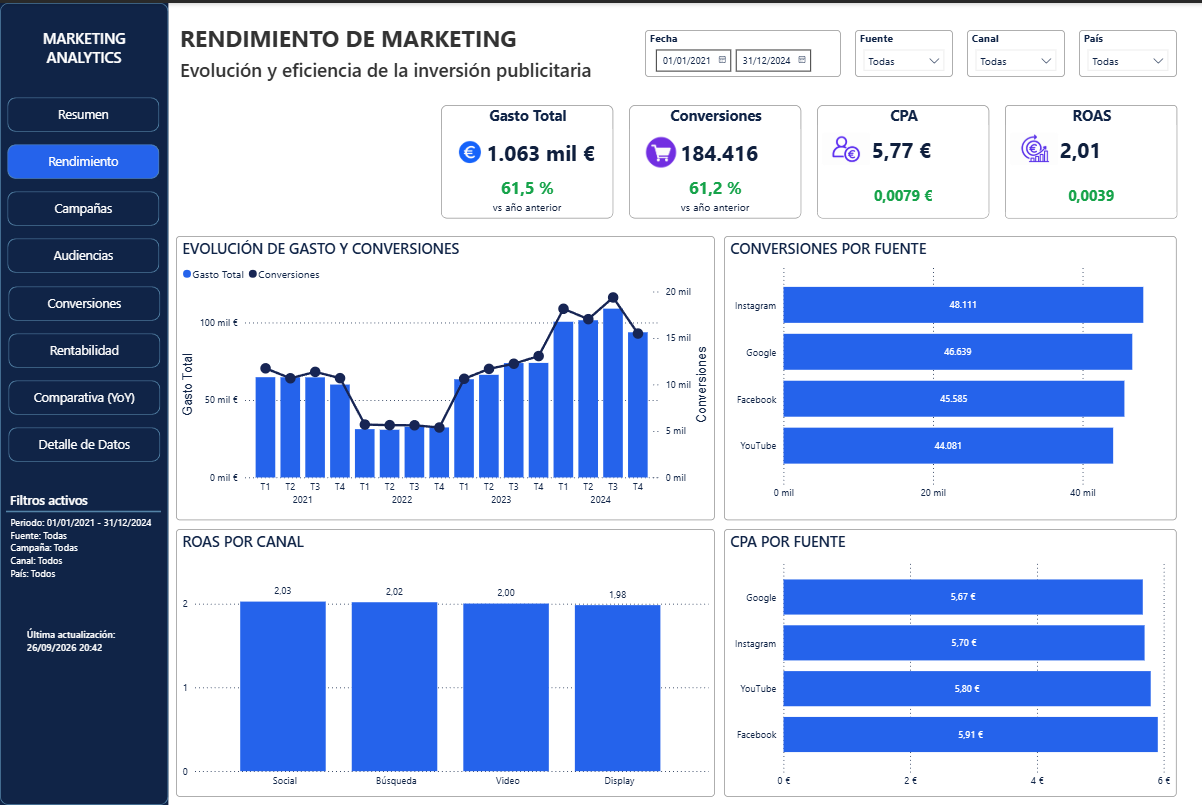

The page's visual inventory and layout, read from the dashboard file:
{"tool":"powerbi","page":{"name":"Rendimiento","canvas":[1536,1024],"ordinal":1},"visuals":[{"type":"shape","box":[0,0,215,1024],"z":0,"group":"g2"},{"type":"group","id":"g1","title":"Grupo 4","box":[0,0,214.5,1024],"z":0},{"type":"group","id":"g2","title":"Grupo 3","box":[0,0,215,1024],"z":0,"group":"g1"},{"type":"textbox","title":"RENDIMIENTO DE MARKETING","box":[224.7,24.3,578.4,80.4],"z":1000},{"type":"textbox","box":[1.3,26.8,212,68.9],"z":1000,"group":"g2"},{"type":"shape","box":[6.4,117.5,200,50],"z":1000,"group":"g1"},{"type":"slicer","title":"País","fields":{"Values":["DimPais.AudienciaPais"]},"box":[1377.7,35,125,60],"z":2000},{"type":"shape","box":[6.6,177.7,200,50],"z":2000,"group":"g1"},{"type":"slicer","title":"Fuente","fields":{"Values":["DimFuente.Fuente"]},"box":[1091.8,35,125,60],"z":3000},{"type":"shape","box":[6.7,237.9,200,50],"z":3000,"group":"g1"},{"type":"slicer","title":"Canal","fields":{"Values":["DimCanal.CampaniaCanal"]},"box":[1234.7,35,125,60],"z":4000},{"type":"shape","box":[6.9,298,200,50],"z":4000,"group":"g1"},{"type":"slicer","title":"Fecha","fields":{"Values":["DimCalendar.Fecha"]},"box":[823.5,35,250.3,60],"z":5000},{"type":"shape","box":[7.1,358.2,200,50],"z":5000,"group":"g1"},{"type":"shape","box":[7.3,418.4,200,50],"z":6000,"group":"g1"},{"type":"cardVisual","title":"Gasto Total","fields":{"Data":["Medidas.Gasto Total","Medidas.Variación Gasto YoY %"]},"box":[563.1,130.2,220,145],"z":7000},{"type":"shape","box":[7.5,478.6,200,50],"z":7000,"group":"g1"},{"type":"cardVisual","title":"Conversiones","fields":{"Data":["Medidas.Conversiones","Medidas.Variación Conversiones YoY %"]},"box":[803.1,130.2,220,145],"z":8000},{"type":"shape","box":[7.7,538.8,200,50],"z":8000,"group":"g1"},{"type":"cardVisual","title":"CPA","fields":{"Data":["Medidas.CPA","Medidas.Variación CPA YoY €"]},"box":[1043.2,130.2,220,145],"z":9000},{"type":"textbox","box":[7.7,619.3,199.2,33.2],"z":9000},{"type":"cardVisual","title":"ROAS","fields":{"Data":["Medidas.ROAS","Medidas.Variación ROAS YoY"]},"box":[1283.2,130.2,220,145],"z":10000},{"type":"lineClusteredColumnComboChart","title":"EVOLUCIÓN DE GASTO Y CONVERSIONES","fields":{"Category":["DimCalendar.#Año","DimCalendar.Trimestre"],"Y":["Medidas.Gasto Total"],"Y2":["Medidas.Conversiones"]},"box":[224.7,297.5,688.2,362.6],"z":11000},{"type":"clusteredBarChart","title":"CONVERSIONES POR FUENTE","fields":{"Category":["DimFuente.Fuente"],"Y":["Medidas.Conversiones"]},"box":[924.4,297.5,578.4,362.6],"z":12000},{"type":"clusteredColumnChart","title":"ROAS POR CANAL","fields":{"Category":["DimCanal.CampaniaCanal"],"Y":["Medidas.ROAS"]},"box":[224.7,671.6,688.2,342.2],"z":13000},{"type":"clusteredBarChart","title":"CPA POR FUENTE","fields":{"Category":["DimFuente.Fuente"],"Y":["Medidas.CPA"]},"box":[924.4,671.6,578.4,342.2],"z":14000},{"type":"cardVisual","fields":{"Data":["Medidas.Última Actualización"]},"box":[20.4,766.1,169.8,93.2],"z":14001},{"type":"cardVisual","fields":{"Data":["_Medidas.Filtros Activos - Resumen"]},"box":[1.3,619.3,213.2,150.7],"z":14002},{"type":"shape","box":[7.7,635.9,197.9,26.8],"z":14003}]}

Visuals, with their boxes on the page's 1536x1024 design canvas (x1, y1, x2, y2). These are canvas units, not pixel positions in the 1202x805 screenshot, which may show the page scaled, cropped or inside an application window:
shape: {"left": 0, "top": 0, "right": 215, "bottom": 1024}
"Grupo 4" group: {"left": 0, "top": 0, "right": 214, "bottom": 1024}
"Grupo 3" group: {"left": 0, "top": 0, "right": 215, "bottom": 1024}
"RENDIMIENTO DE MARKETING" textbox: {"left": 225, "top": 24, "right": 803, "bottom": 105}
textbox: {"left": 1, "top": 27, "right": 213, "bottom": 96}
shape: {"left": 6, "top": 118, "right": 206, "bottom": 168}
"País" slicer: {"left": 1378, "top": 35, "right": 1503, "bottom": 95}
shape: {"left": 7, "top": 178, "right": 207, "bottom": 228}
"Fuente" slicer: {"left": 1092, "top": 35, "right": 1217, "bottom": 95}
shape: {"left": 7, "top": 238, "right": 207, "bottom": 288}
"Canal" slicer: {"left": 1235, "top": 35, "right": 1360, "bottom": 95}
shape: {"left": 7, "top": 298, "right": 207, "bottom": 348}
"Fecha" slicer: {"left": 824, "top": 35, "right": 1074, "bottom": 95}
shape: {"left": 7, "top": 358, "right": 207, "bottom": 408}
shape: {"left": 7, "top": 418, "right": 207, "bottom": 468}
"Gasto Total" cardVisual: {"left": 563, "top": 130, "right": 783, "bottom": 275}
shape: {"left": 8, "top": 479, "right": 208, "bottom": 529}
"Conversiones" cardVisual: {"left": 803, "top": 130, "right": 1023, "bottom": 275}
shape: {"left": 8, "top": 539, "right": 208, "bottom": 589}
"CPA" cardVisual: {"left": 1043, "top": 130, "right": 1263, "bottom": 275}
textbox: {"left": 8, "top": 619, "right": 207, "bottom": 652}
"ROAS" cardVisual: {"left": 1283, "top": 130, "right": 1503, "bottom": 275}
"EVOLUCIÓN DE GASTO Y CONVERSIONES" lineClusteredColumnComboChart: {"left": 225, "top": 298, "right": 913, "bottom": 660}
"CONVERSIONES POR FUENTE" clusteredBarChart: {"left": 924, "top": 298, "right": 1503, "bottom": 660}
"ROAS POR CANAL" clusteredColumnChart: {"left": 225, "top": 672, "right": 913, "bottom": 1014}
"CPA POR FUENTE" clusteredBarChart: {"left": 924, "top": 672, "right": 1503, "bottom": 1014}
cardVisual - Medidas.Última Actualización: {"left": 20, "top": 766, "right": 190, "bottom": 859}
cardVisual - _Medidas.Filtros Activos - Resumen: {"left": 1, "top": 619, "right": 214, "bottom": 770}
shape: {"left": 8, "top": 636, "right": 206, "bottom": 663}
